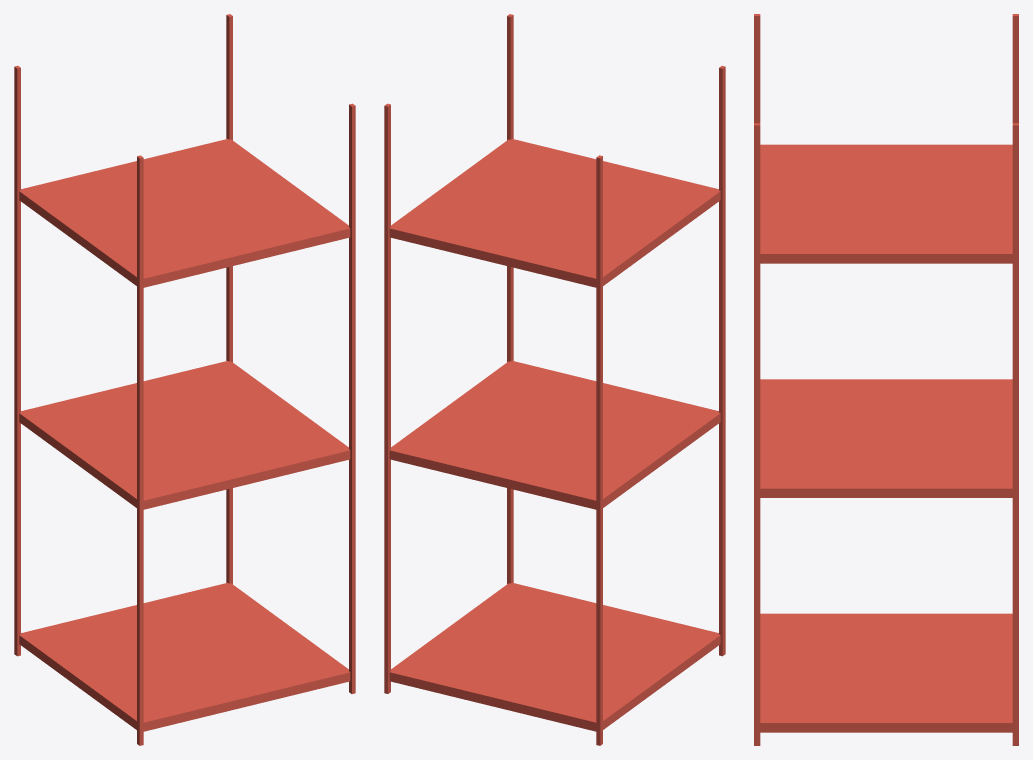
Rendered from rack.glb.
The picture shows the model from 3 angles, left to right: view 1: azimuth 30°, elevation 25°; view 2: azimuth 150°, elevation 25°; view 3: azimuth 270°, elevation 25°; orthographic projection. The views are drawn at different scales.
Parts seen in each view (by area): view 1: Cube; view 2: Cube; view 3: Cube.
Boxes of the visible parts, <box> form: Cube: <box>14,14,355,745</box>; Cube: <box>384,14,725,745</box>; Cube: <box>754,14,1018,745</box>.
Bounding box in the file's own units: 2.04 × 5.3 × 2.05.
